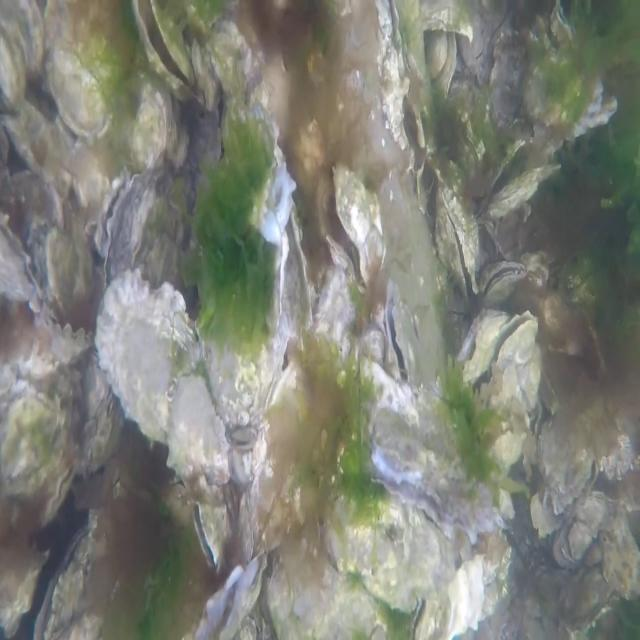Oyster-Closed: (49, 2, 117, 133), (485, 162, 563, 222), (40, 452, 82, 527), (397, 0, 428, 84), (40, 306, 94, 354), (360, 323, 384, 370)
Oyster-Indeterminate: (96, 268, 232, 480), (331, 499, 457, 614), (248, 362, 314, 545), (0, 376, 77, 489), (8, 88, 76, 190), (43, 214, 99, 307), (0, 0, 45, 106), (314, 263, 354, 368), (127, 86, 170, 172)
Oyster-Open: (207, 16, 299, 246), (369, 398, 504, 542), (33, 516, 113, 640), (320, 152, 382, 291), (376, 0, 426, 152), (533, 400, 598, 513), (476, 306, 538, 412), (198, 550, 270, 640), (132, 0, 195, 94), (434, 186, 482, 296), (94, 162, 140, 266), (278, 201, 312, 340), (0, 206, 44, 303), (456, 307, 511, 378), (385, 279, 418, 385), (192, 496, 229, 565), (483, 260, 526, 302)
